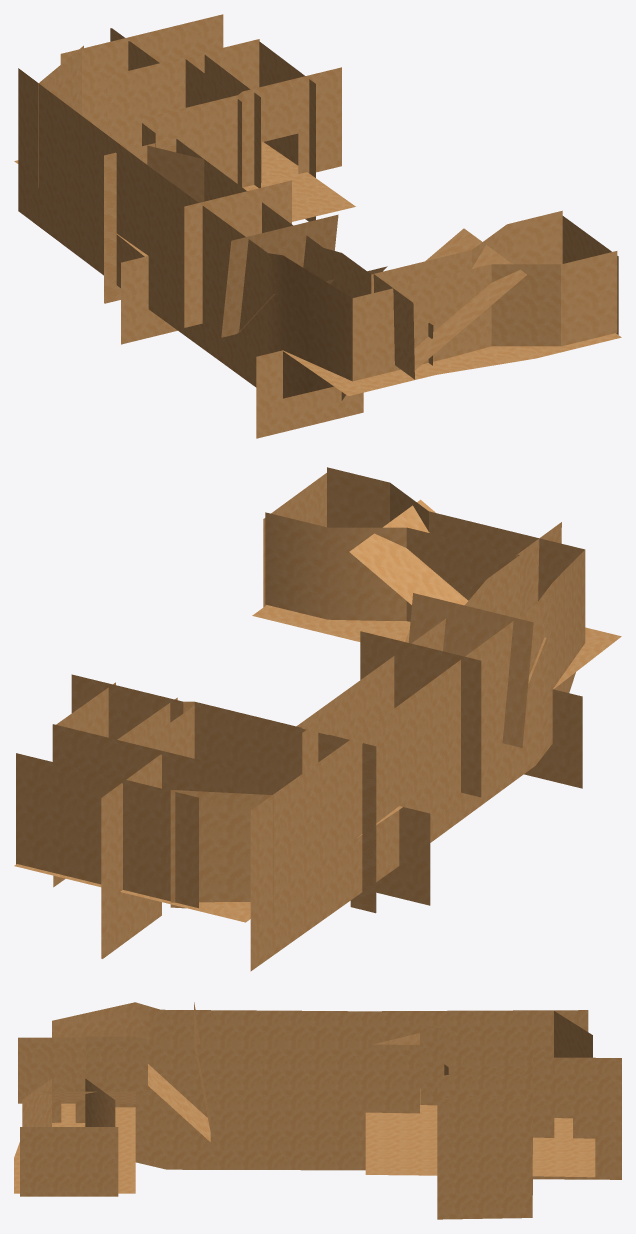
Rendered from mapahielonofinal2.fbx.
The picture shows the model from 3 angles, top to bottom: view 1: azimuth 30°, elevation 25°; view 2: azimuth 150°, elevation 25°; view 3: azimuth 270°, elevation 25°; orthographic projection. The views are drawn at different scales.
Parts seen in each view (by area): view 1: wall.001, floor, wall.002; view 2: wall.001, floor, wall.002; view 3: wall.001, floor, wall.002.
Boxes of the visible parts, x1,y1,x2,y2 form: wall.001: (18,14,617,438); floor: (14,142,621,396); wall.002: (562,216,618,334); wall.001: (16,467,585,971); floor: (14,499,621,922); wall.002: (263,473,326,607); wall.001: (18,1002,621,1219); floor: (14,1064,595,1193); wall.002: (20,1127,118,1196).
Size of the model in its own units: 15499 by 9169 by 32706.
